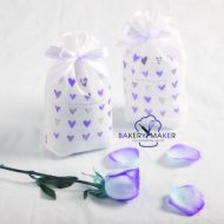snack: (34, 24, 120, 162), (112, 0, 193, 134)
